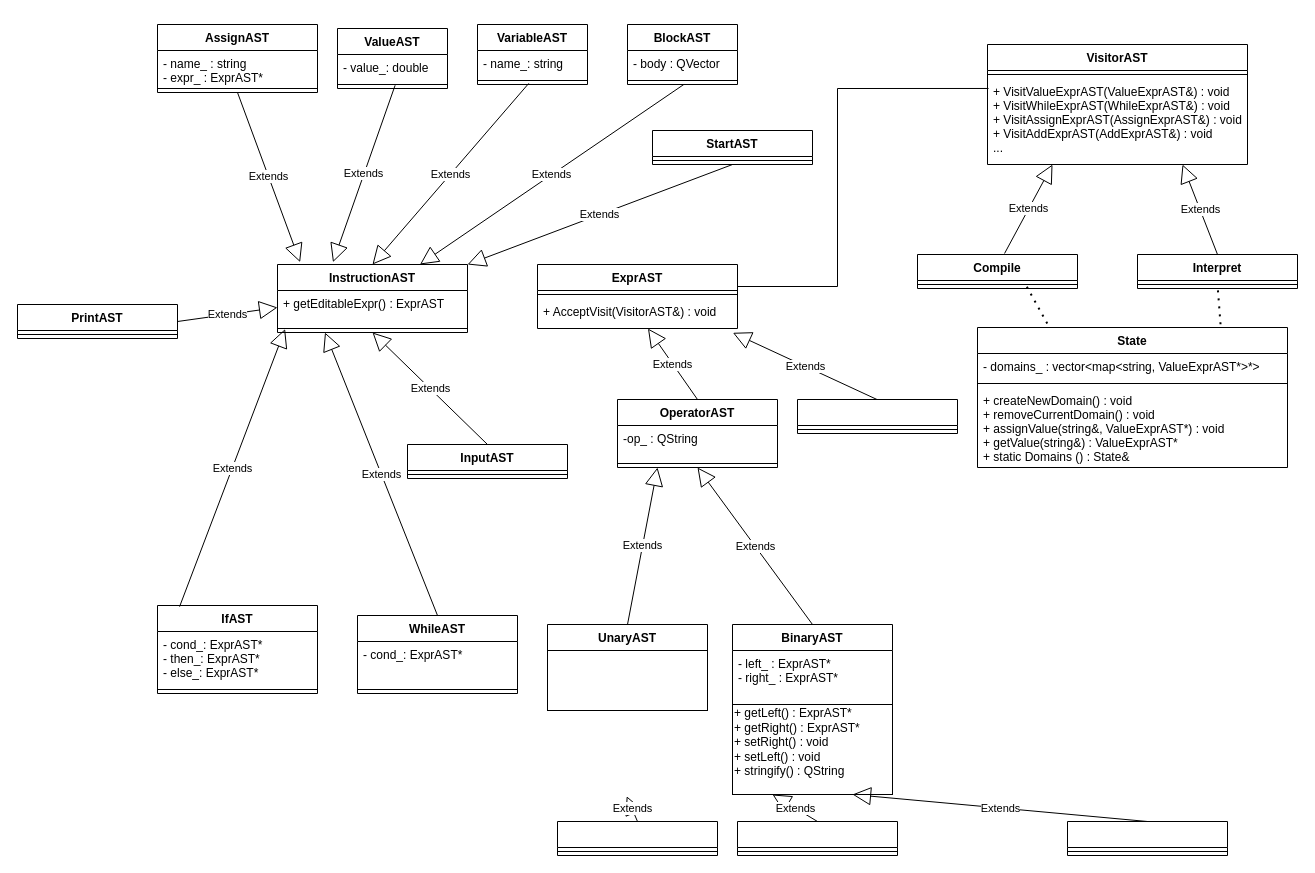
This 1315x873 diagram has some shape labels left out. The shapes that lost their labels are listed below. From the top down, each one's centre as x and y in pixels, then its label:
At point 877,416: "Serializable".
At point 627,680: "-ExprAST * : operand_".
At point 637,838: "NotAST".
At point 817,838: "AddAST".
At point 1147,838: "SubAST".
